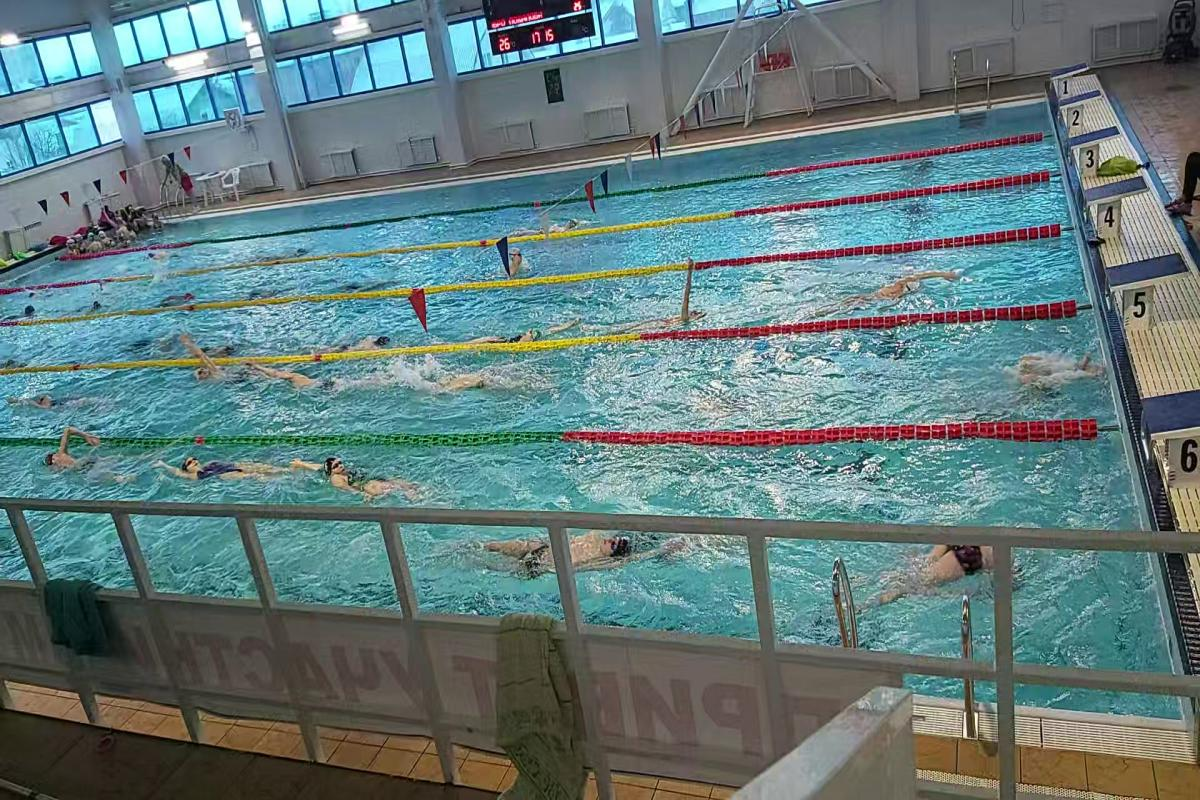swimmer: (477, 528, 690, 580), (882, 527, 1015, 595), (296, 448, 436, 502), (251, 354, 394, 402), (828, 266, 971, 313), (138, 450, 292, 485), (639, 270, 712, 327), (413, 359, 535, 392), (174, 336, 242, 388), (32, 436, 118, 473), (5, 386, 100, 414), (463, 324, 563, 340), (332, 329, 395, 352), (508, 244, 534, 278)
